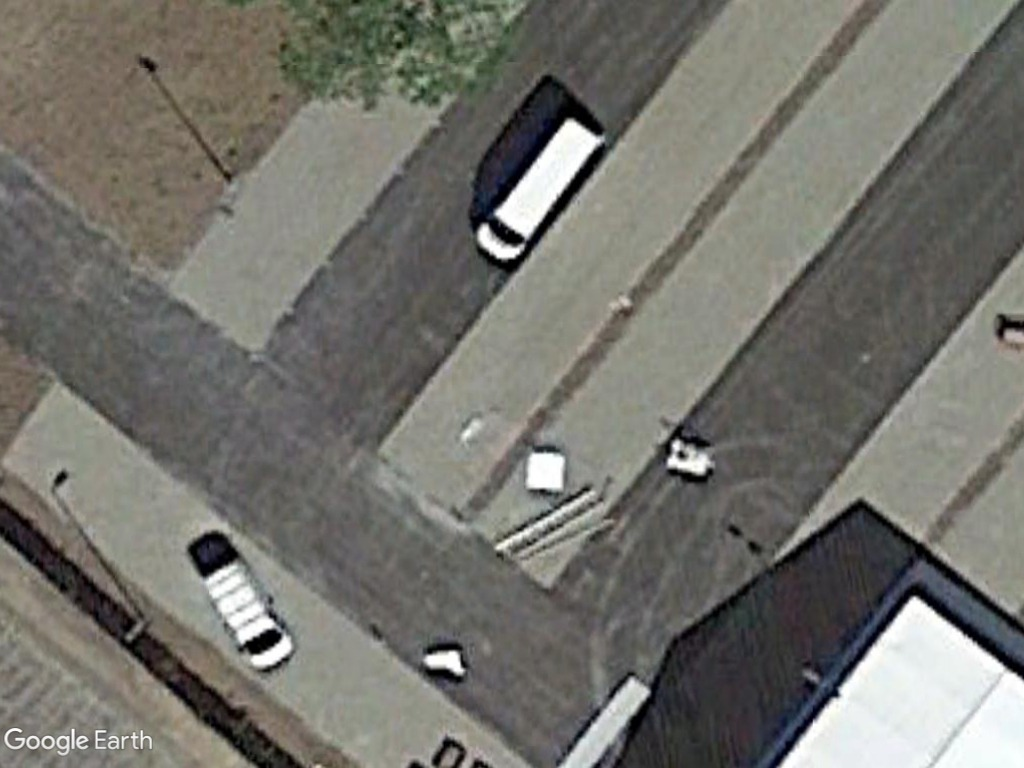van: (466, 118, 609, 274), (200, 554, 297, 674)
